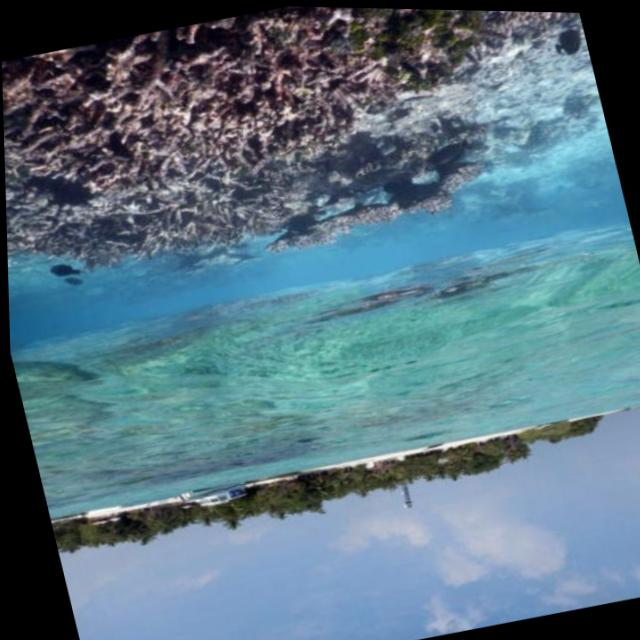Dead Coral: (0, 0, 489, 316), (0, 0, 569, 263)
